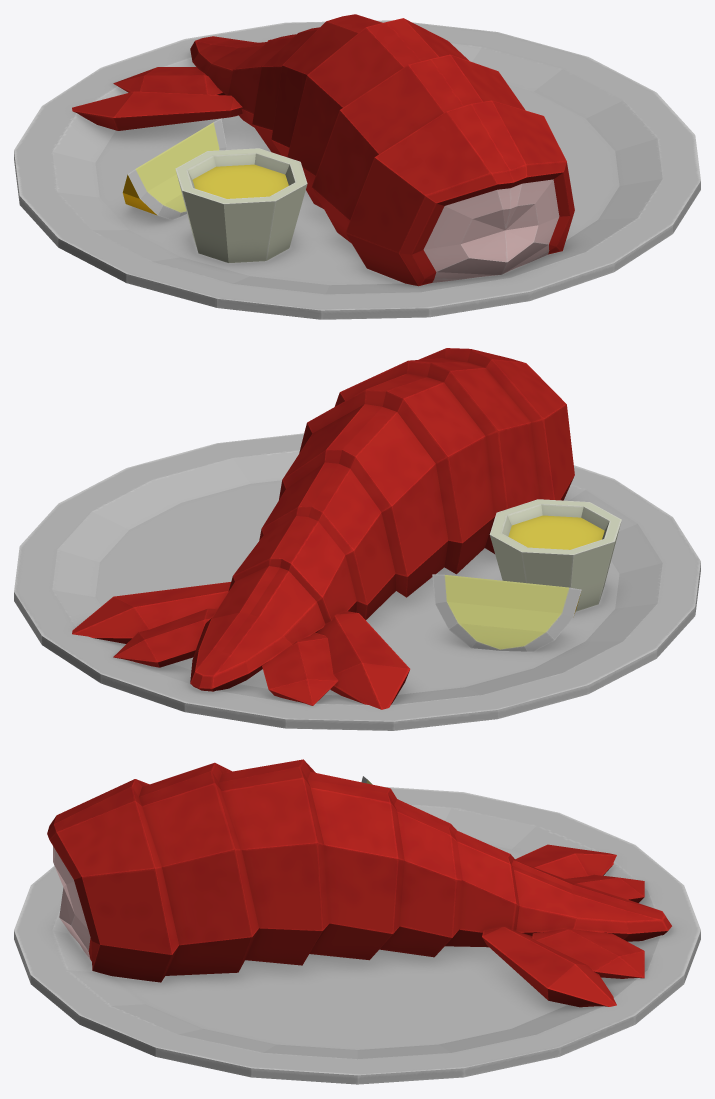
3 views of the same model, one above another, from view 1: azimuth 30°, elevation 25°; view 2: azimuth 150°, elevation 25°; view 3: azimuth 270°, elevation 25° (orthographic).
Parts seen in each view (by area): view 1: LobsterTail_mesh; view 2: LobsterTail_mesh; view 3: LobsterTail_mesh.
Boxes of the visible parts, bbox=[...] form: LobsterTail_mesh: bbox=[14, 14, 700, 319]; LobsterTail_mesh: bbox=[14, 348, 700, 730]; LobsterTail_mesh: bbox=[14, 759, 700, 1084].
Size of the model in its own units: 2.57 by 0.8566 by 2.57.
Materials: 1 (1 with a texture image).
